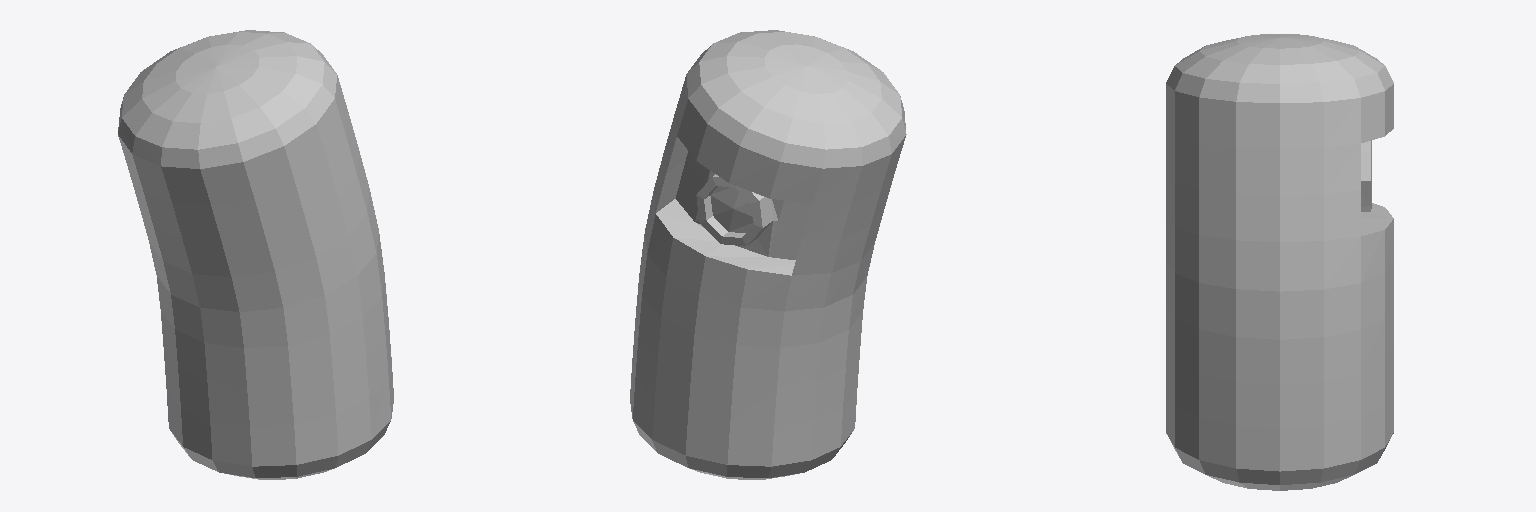
Rendered from idle3.obj.
The picture shows the model from 3 angles: view 1: azimuth 30°, elevation 25°; view 2: azimuth 150°, elevation 25°; view 3: azimuth 270°, elevation 25°; orthographic projection.
Parts seen in each view (by area): view 1: Sphere; view 2: Sphere; view 3: Sphere.
Boxes of the visible parts, x1,y1,x2,y2 form: Sphere: [118, 30, 393, 479]; Sphere: [630, 30, 906, 479]; Sphere: [1166, 34, 1393, 490].
Size of the model in its own units: 1.25 by 2 by 1.